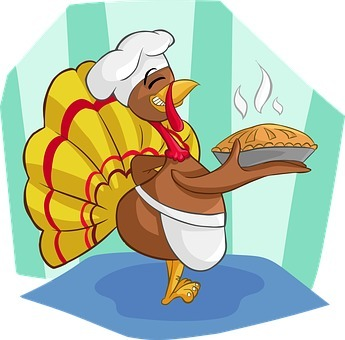bird: (29, 29, 323, 316)
